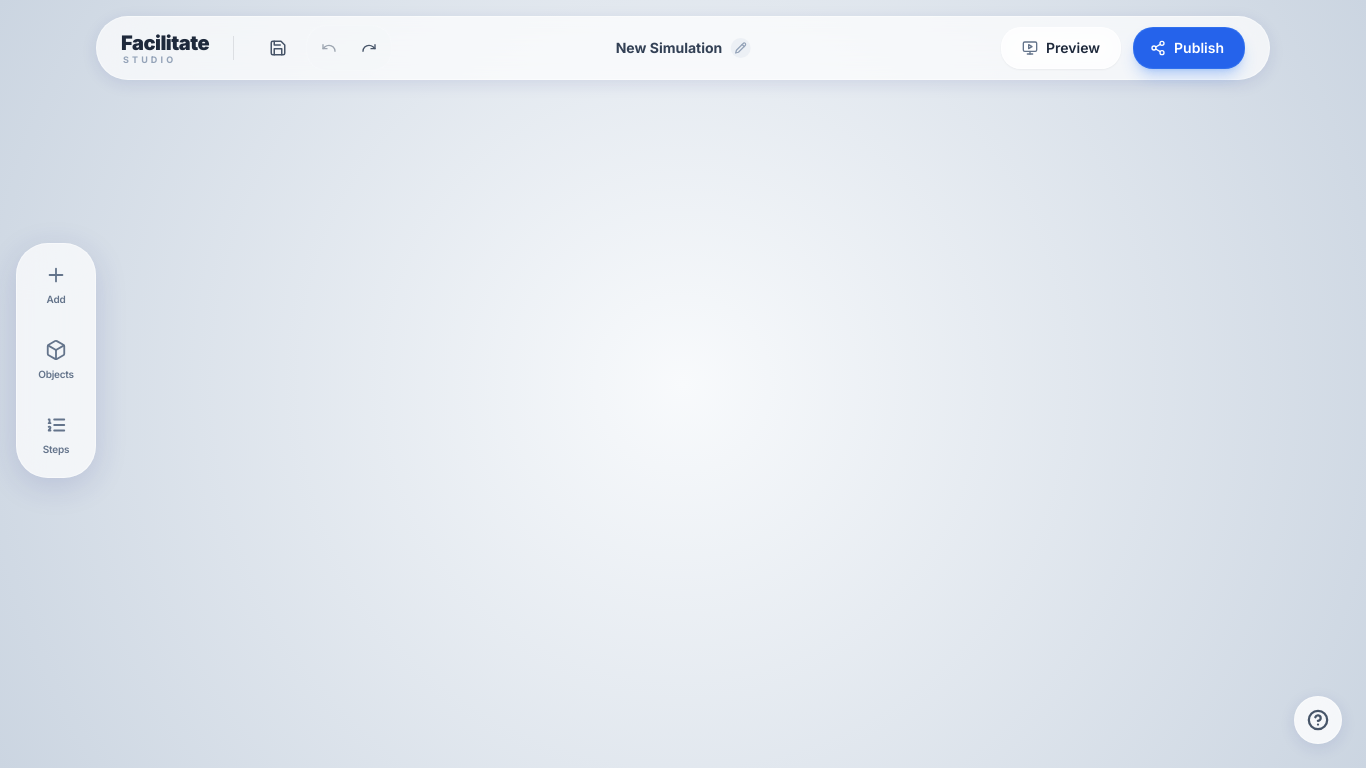
App › closes right sidebar when close button is clicked
Note: Open objects panel and select an object
Click the button "Objects": coordinates (56, 360) [25,326,87,394]
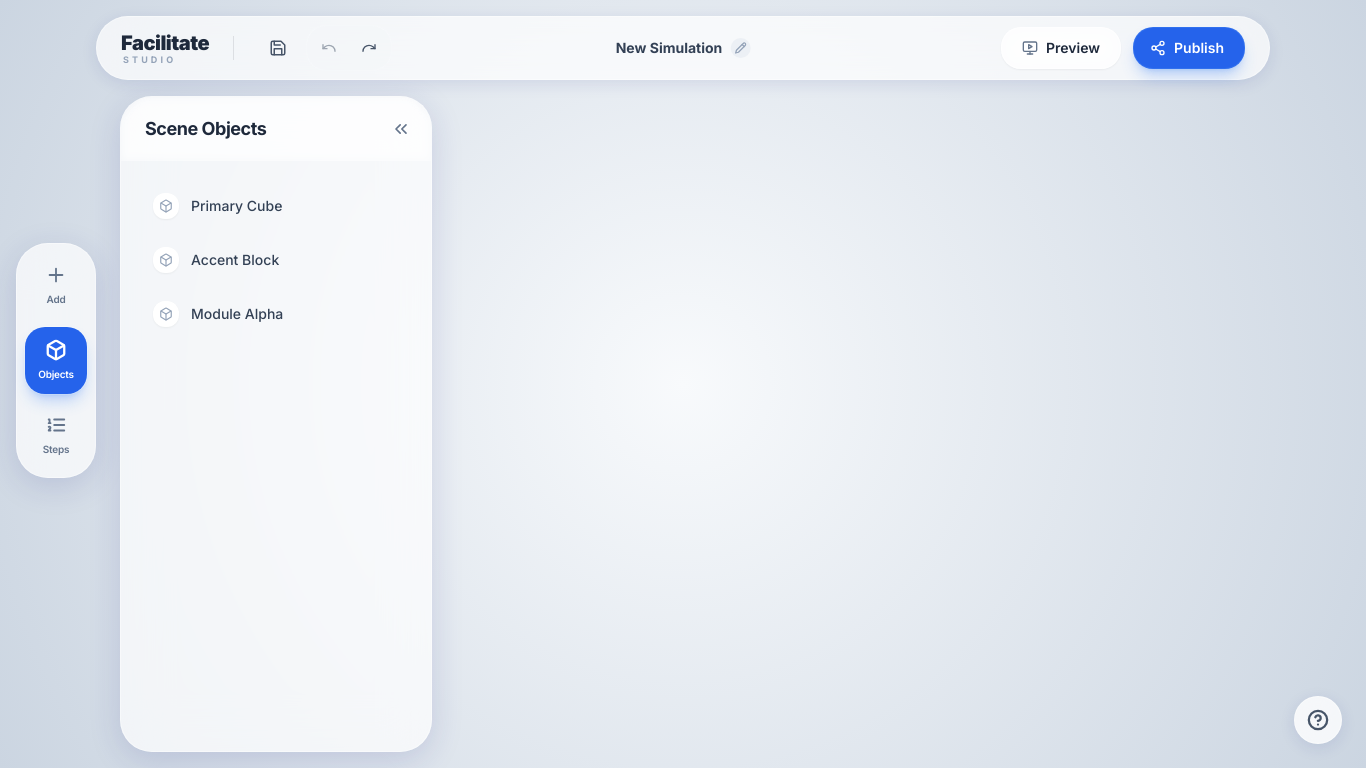
Click the text "Primary Cube": coordinates (237, 206) [191,197,282,214]
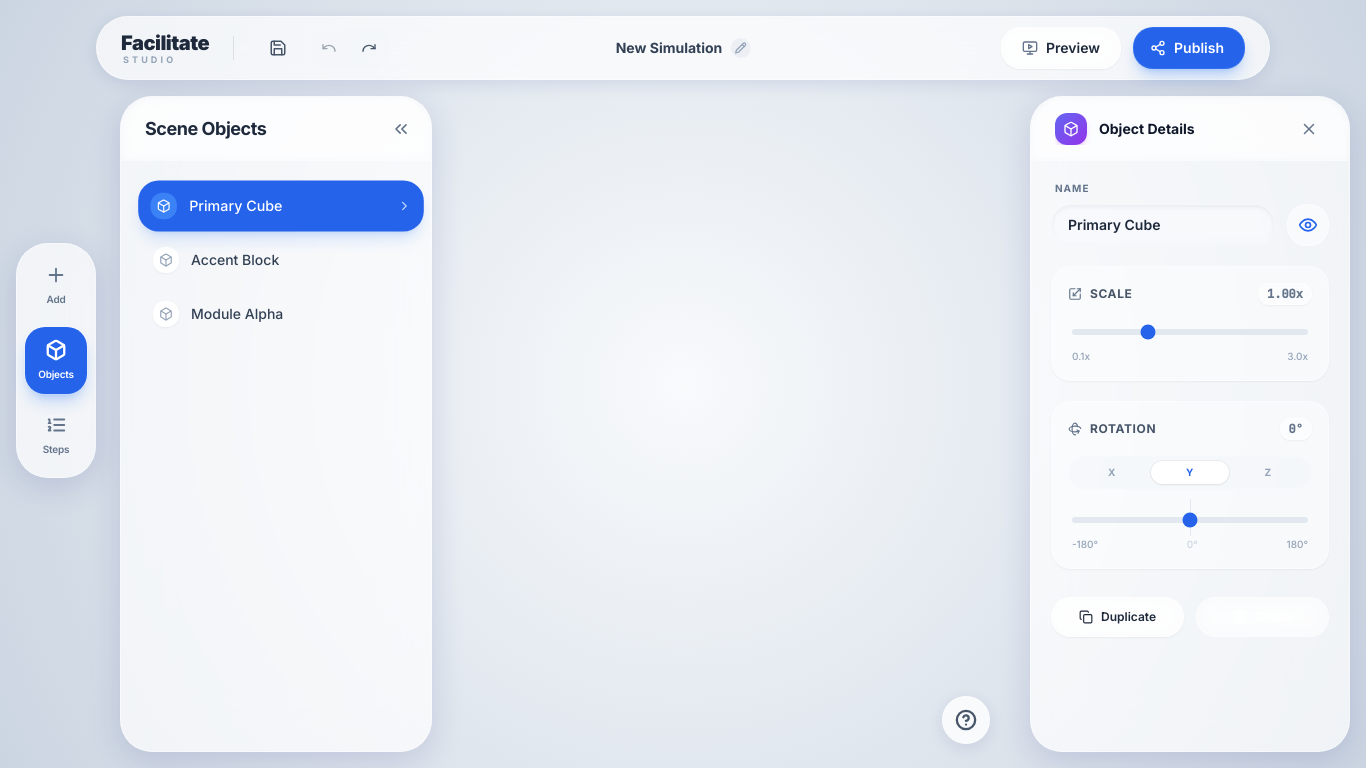
Now the heading "Object Details" is shown, box [1099,118,1195,138]
Note: Close via close button
Click the button named "Close": coordinates (1309, 128) [1293,112,1325,144]
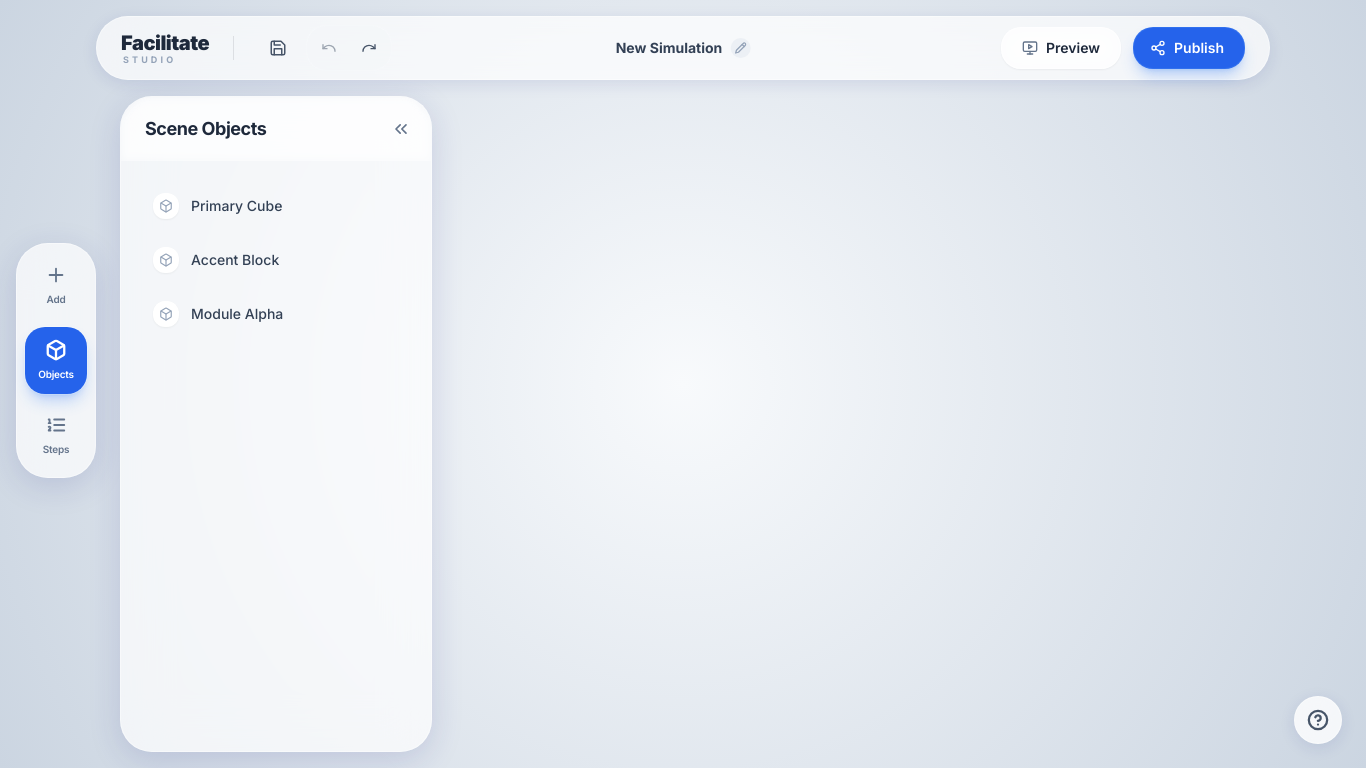
Now the heading "Object Details" is gone
